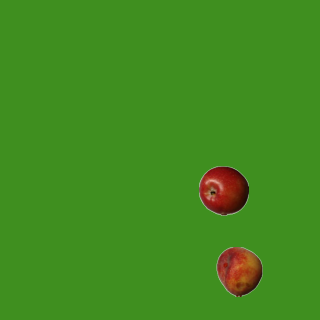Apple Braeburn: (198, 165, 248, 215)
Peach: (214, 246, 264, 296)
